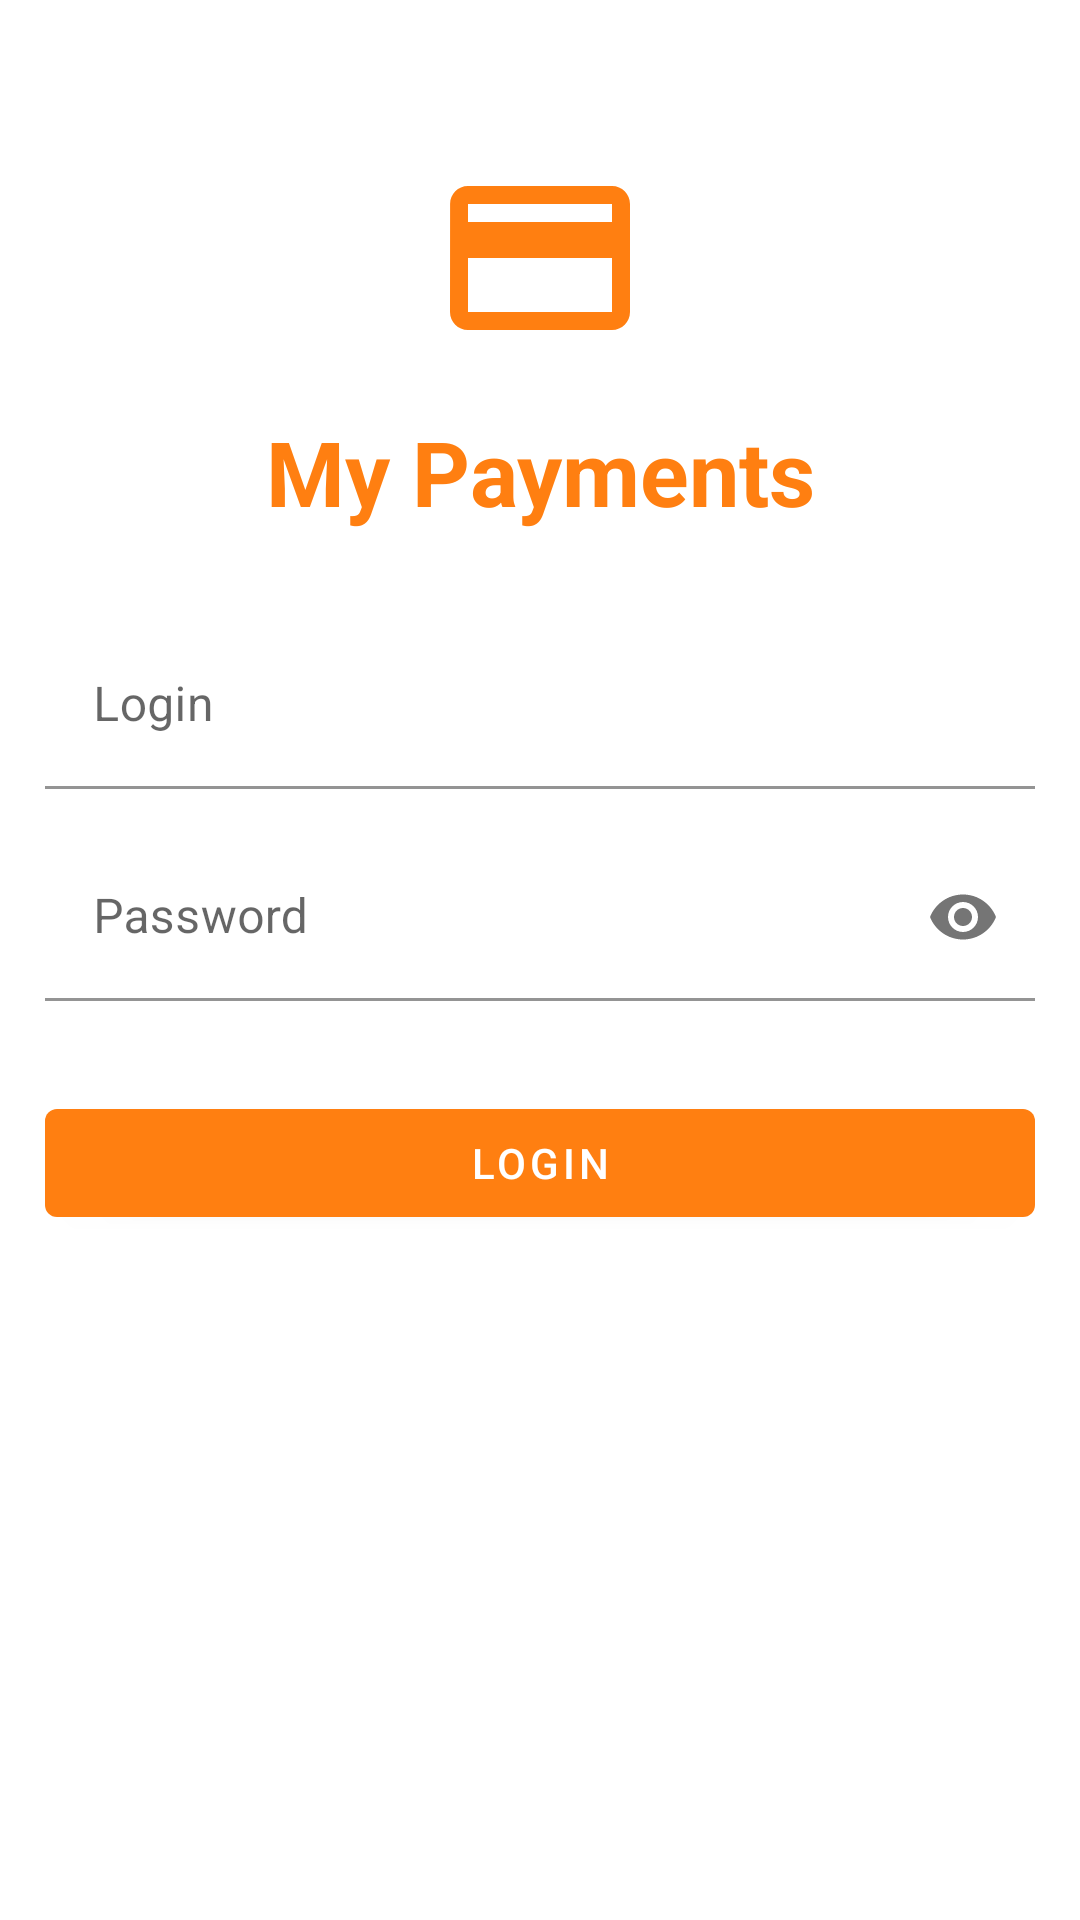

Icons on this 1080px x 1920px Android screen, each with the point to tap as [x,y]:
Payment image: [540,258]
